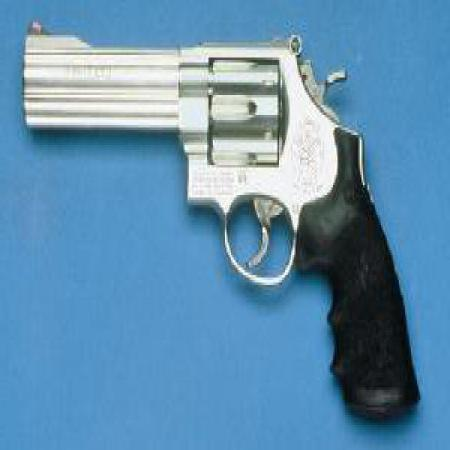Pistol: (29, 15, 428, 417)
